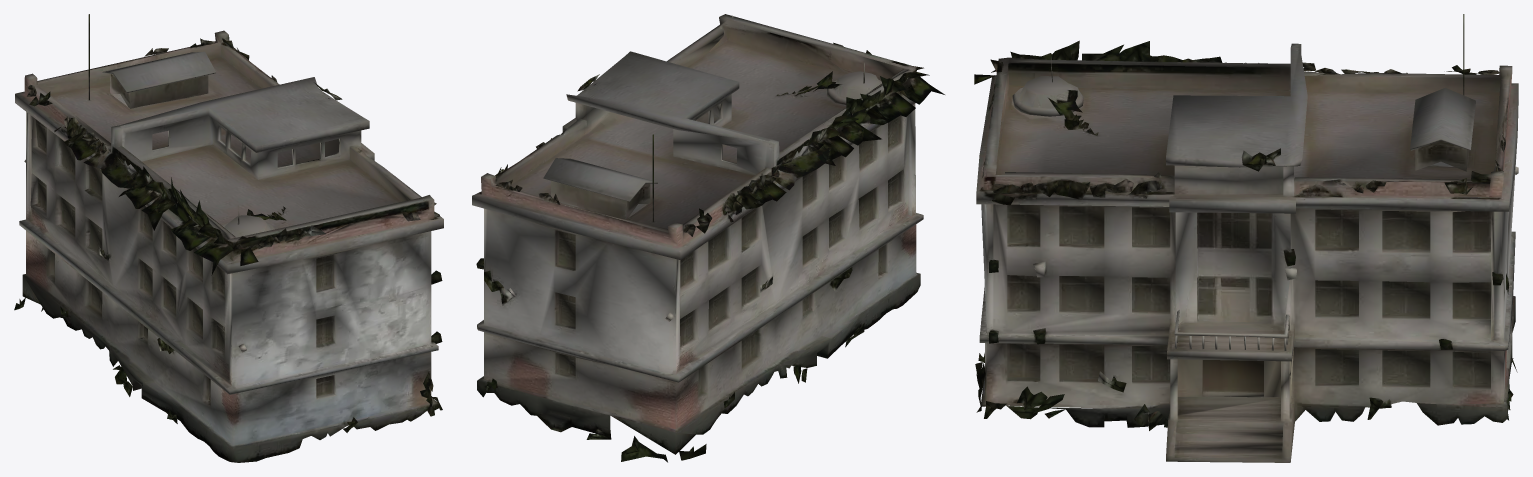
The model's file is abandoned_school.glb.
3 views of the same model, side by side, from view 1: azimuth 30°, elevation 25°; view 2: azimuth 150°, elevation 25°; view 3: azimuth 270°, elevation 25° (orthographic). The views are drawn at different scales.
Parts seen in each view (by area): view 1: tripo_node_c407247f-9b0d-45c5-9df7-2b3efc240b5c; view 2: tripo_node_c407247f-9b0d-45c5-9df7-2b3efc240b5c; view 3: tripo_node_c407247f-9b0d-45c5-9df7-2b3efc240b5c.
Boxes of the visible parts, x1,y1,x2,y2 form: tripo_node_c407247f-9b0d-45c5-9df7-2b3efc240b5c: [14, 14, 443, 462]; tripo_node_c407247f-9b0d-45c5-9df7-2b3efc240b5c: [472, 14, 944, 462]; tripo_node_c407247f-9b0d-45c5-9df7-2b3efc240b5c: [974, 14, 1518, 462].
Bounding box in the file's own units: 0.7324 × 0.7168 × 0.998.
Materials: 1 (1 with a texture image).
